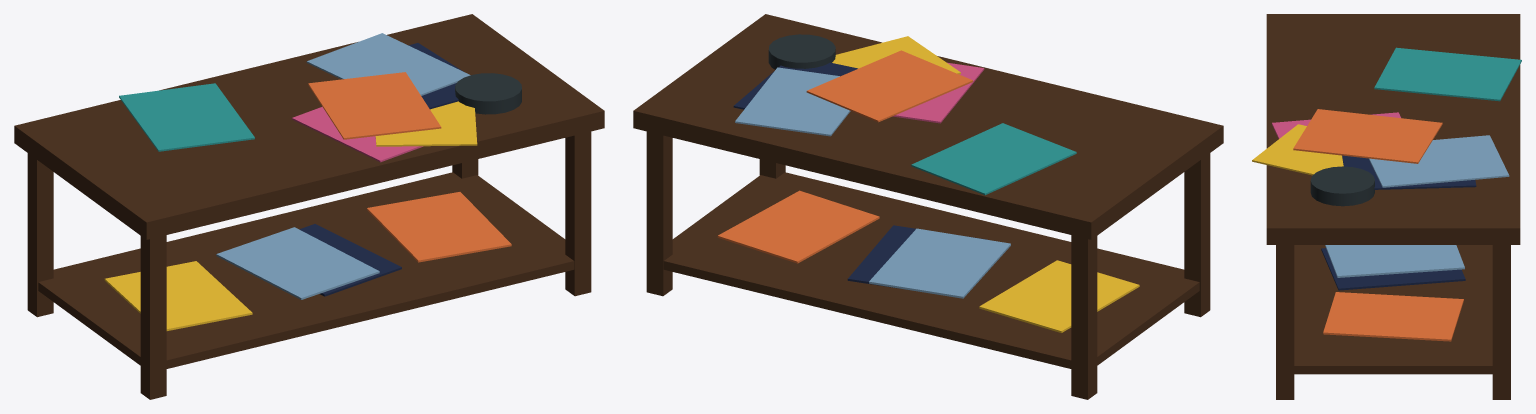
Rendered from SM_80s_CoffeeTable.glb.
3 views of the same model, side by side, from view 1: azimuth 30°, elevation 25°; view 2: azimuth 150°, elevation 25°; view 3: azimuth 270°, elevation 25° (orthographic). The views are drawn at different scales.
Visible parts, largest first — view 1: SM_80s_CoffeeTable; view 2: SM_80s_CoffeeTable; view 3: SM_80s_CoffeeTable.
Boxes of the visible parts, <box> form: SM_80s_CoffeeTable: <box>14,14,604,399</box>; SM_80s_CoffeeTable: <box>633,14,1223,399</box>; SM_80s_CoffeeTable: <box>1252,14,1521,399</box>.
Bounding box in the file's own units: 1.45 × 0.594 × 0.772.
